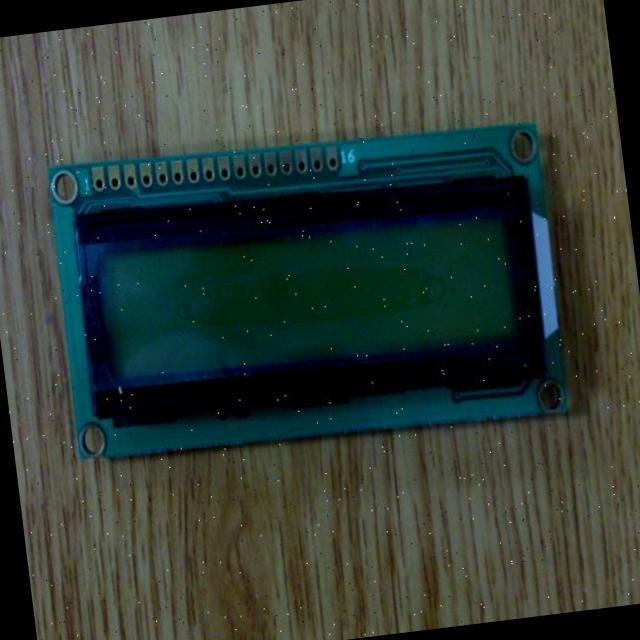lcd: (38, 104, 576, 474)
